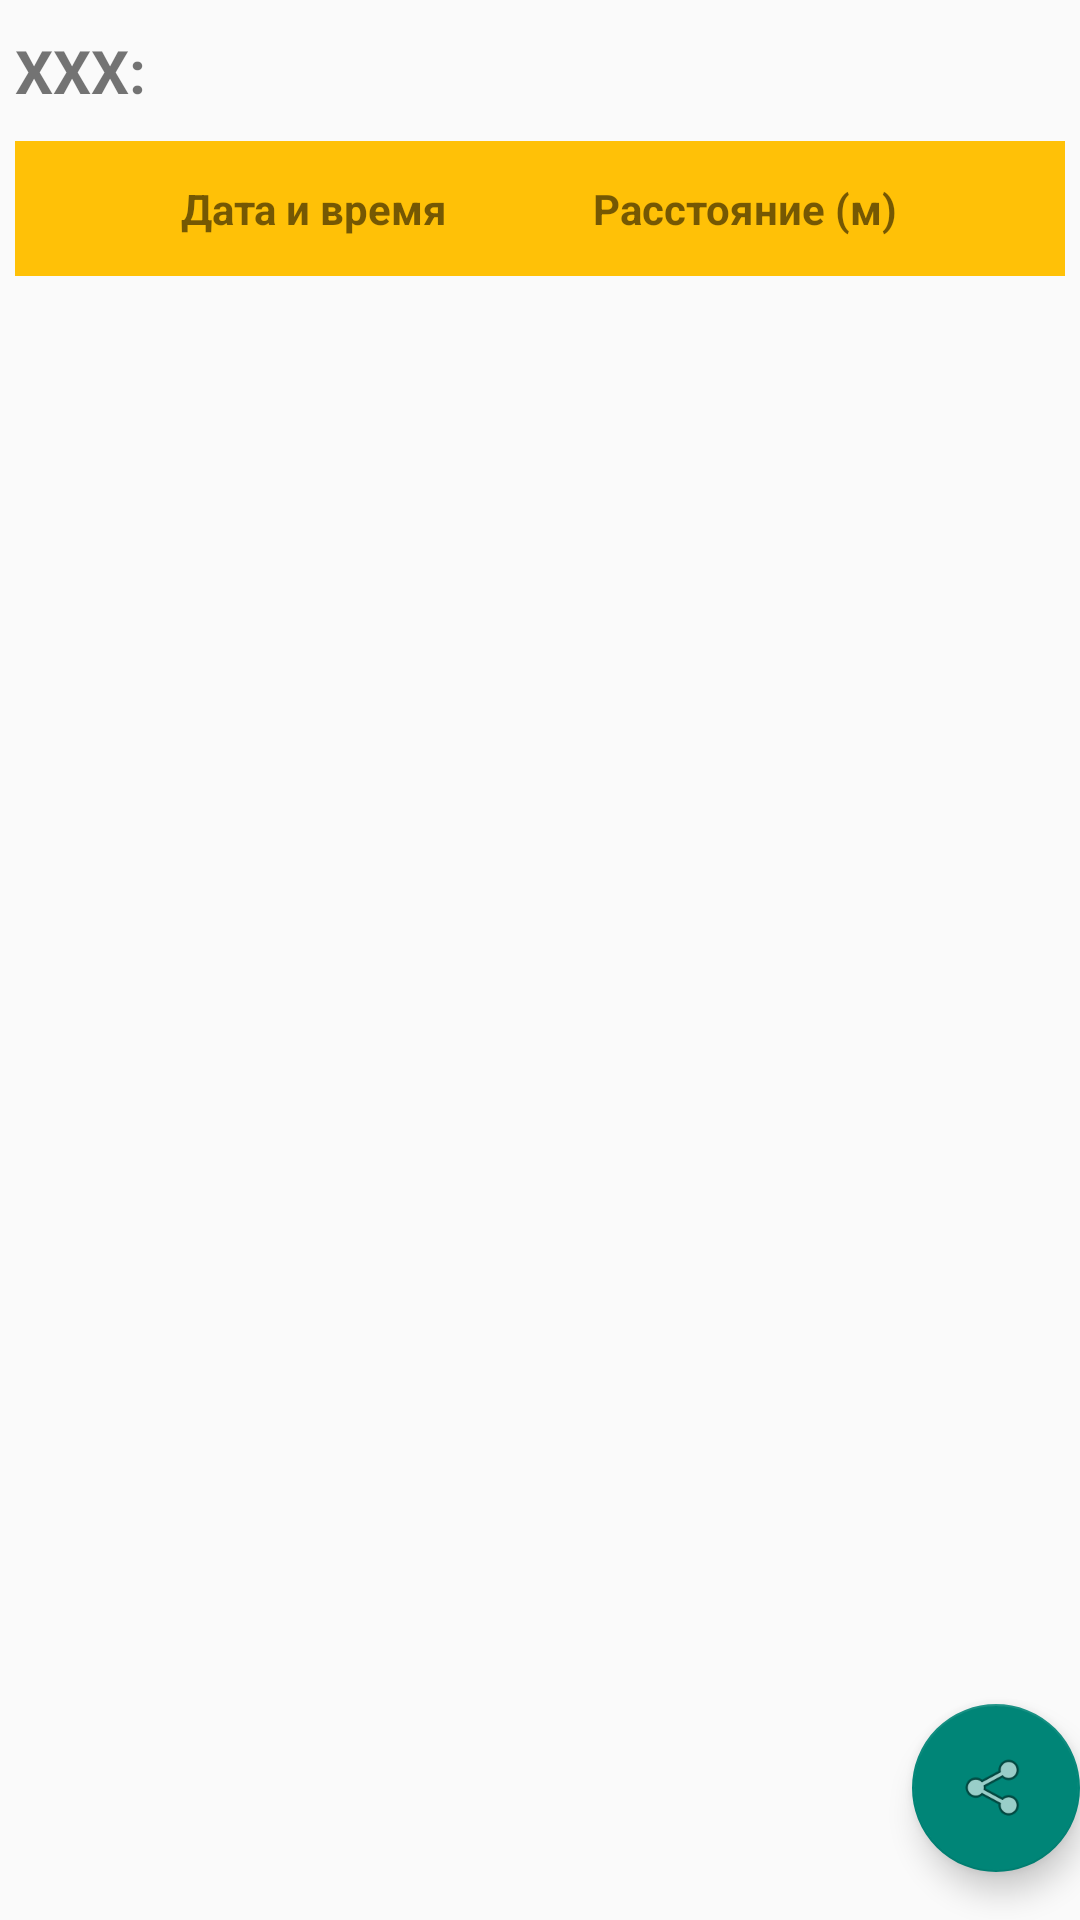

Named icons in this screenshot (1080×1920) and their centers, (x,y):
share: (996,1788)
